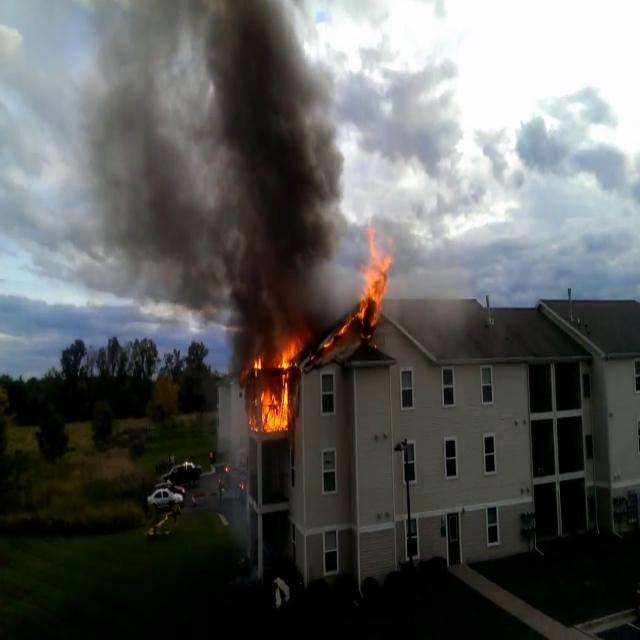Fire: (251, 333, 302, 434), (352, 224, 398, 332)
Smoke: (82, 0, 353, 329)
